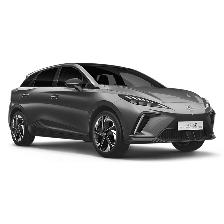EV: (9, 62, 217, 158)
